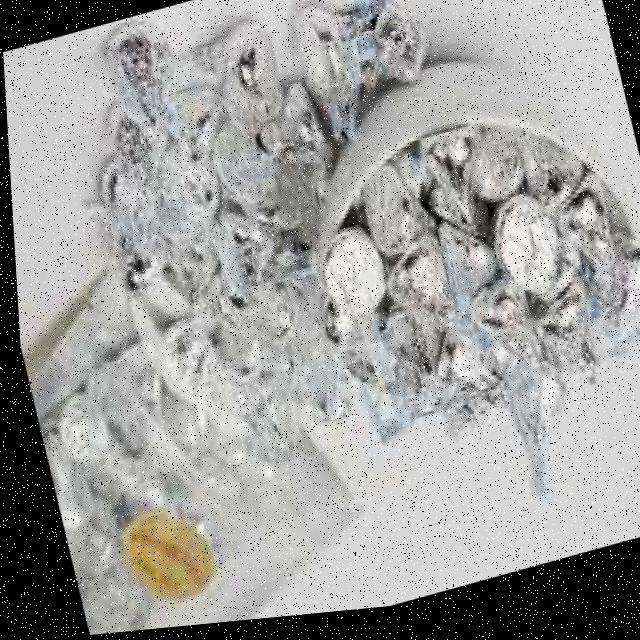kisses: (482, 354, 605, 528), (173, 3, 302, 153), (276, 0, 406, 133), (471, 190, 578, 335), (90, 13, 192, 148), (308, 210, 404, 337), (577, 231, 640, 360)
